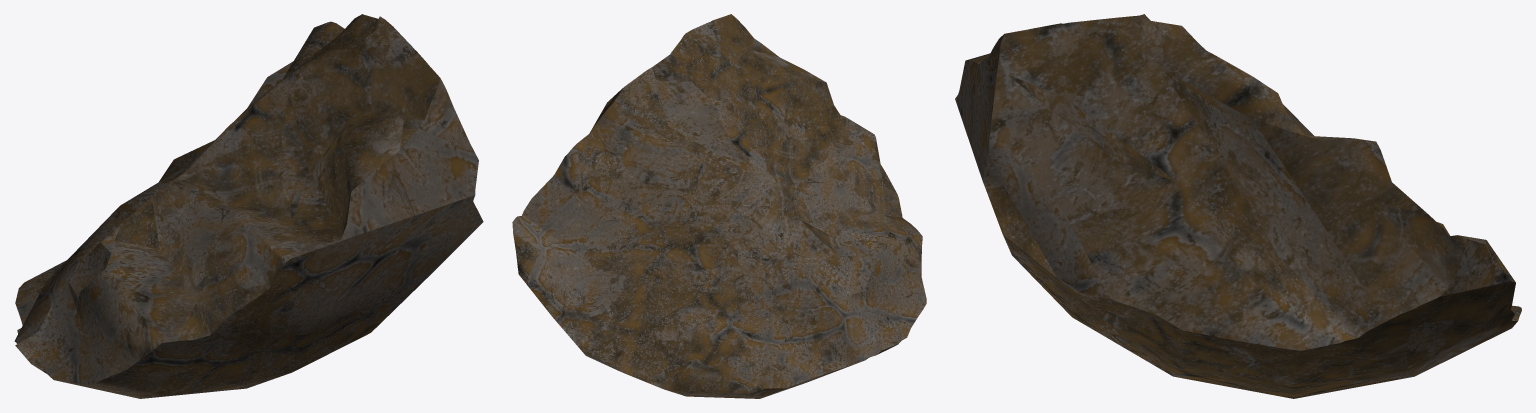
Rendered from RockShard2.fbx.
The picture shows the model from 3 angles, left to right: view 1: azimuth 30°, elevation 25°; view 2: azimuth 150°, elevation 25°; view 3: azimuth 270°, elevation 25°; orthographic projection. The views are drawn at different scales.
Parts seen in each view (by area): view 1: RockShard2; view 2: RockShard2; view 3: RockShard2.
Boxes of the visible parts, x1,y1,x2,y2 form: RockShard2: (14, 14, 483, 398); RockShard2: (512, 14, 926, 398); RockShard2: (955, 14, 1521, 398).
Size of the model in its own units: 82.61 by 70.57 by 86.36.
